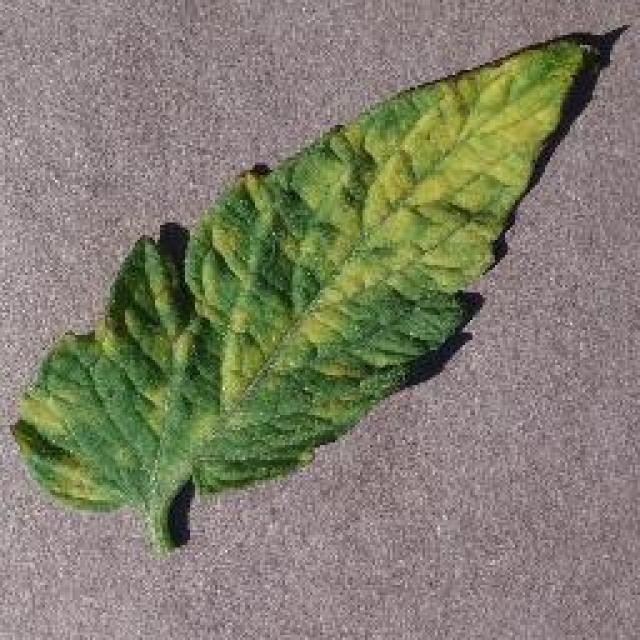Tomato mold leaf: (16, 38, 606, 512)
